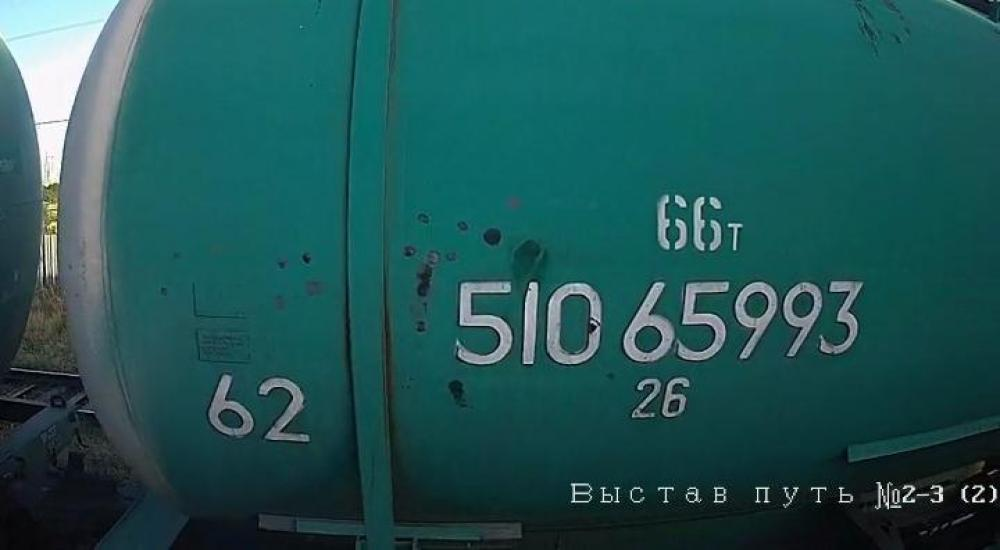Wagon-number: (447, 264, 869, 374)
